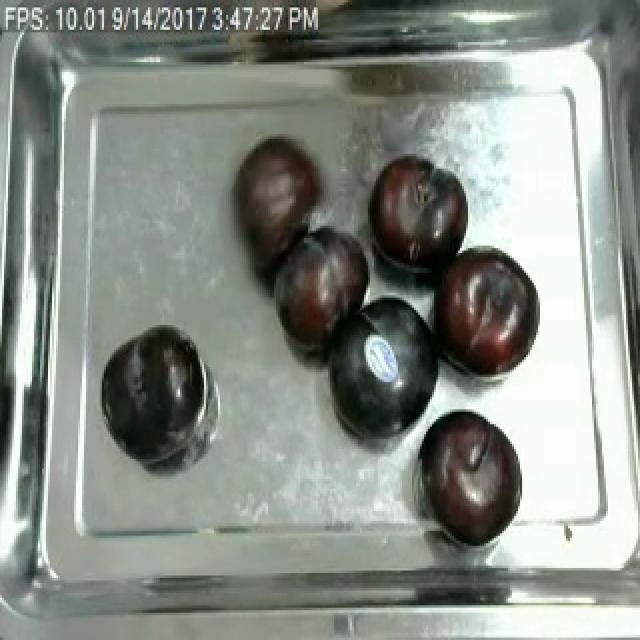Fruit: (316, 288, 448, 447), (412, 404, 526, 548), (432, 241, 542, 387), (98, 322, 204, 469), (268, 221, 380, 357), (364, 149, 472, 278), (226, 134, 326, 265)
